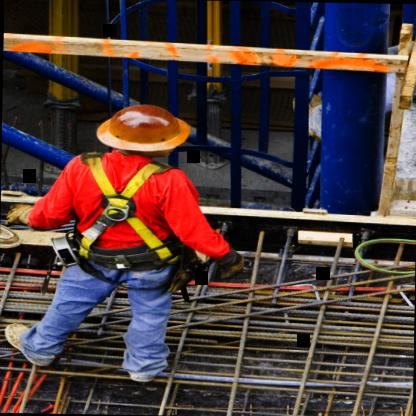helmet: (80, 98, 196, 184)
